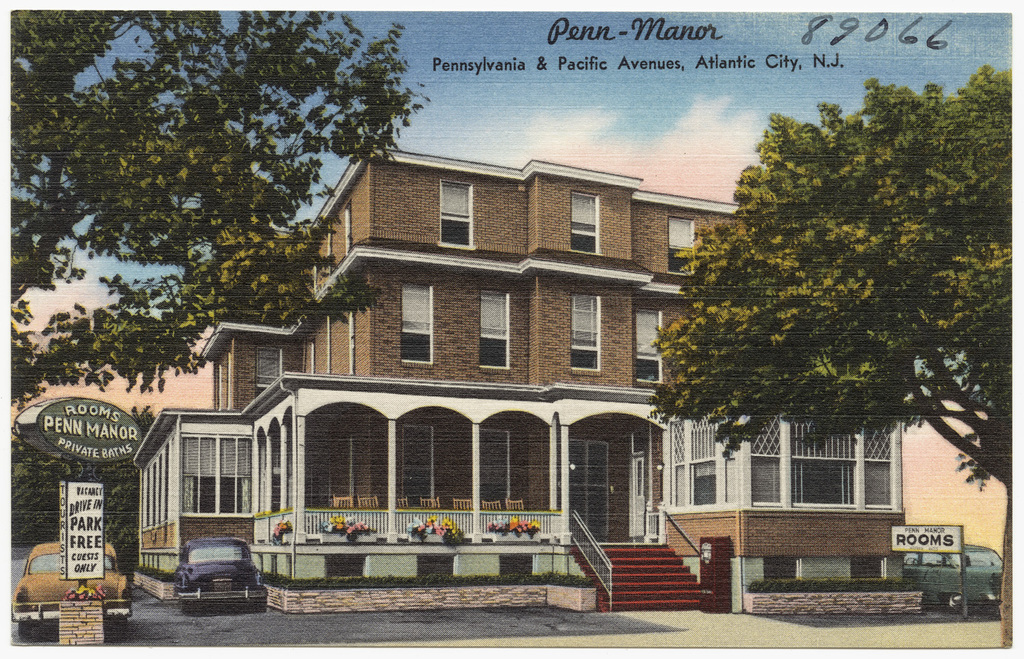Car: (4, 538, 129, 646), (898, 543, 1013, 613), (173, 530, 261, 617)
